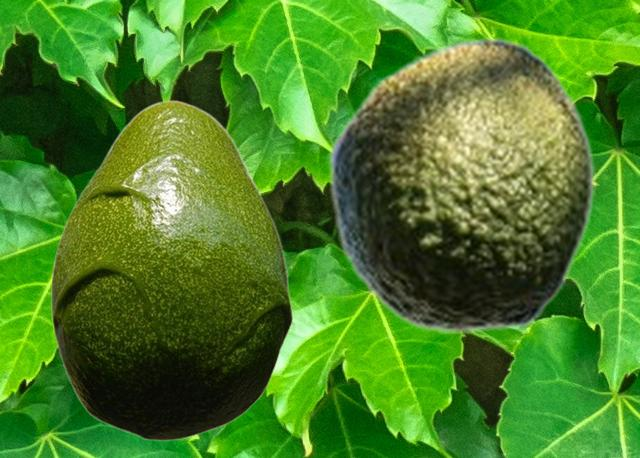avocado: (50, 99, 292, 440), (327, 37, 594, 332)
